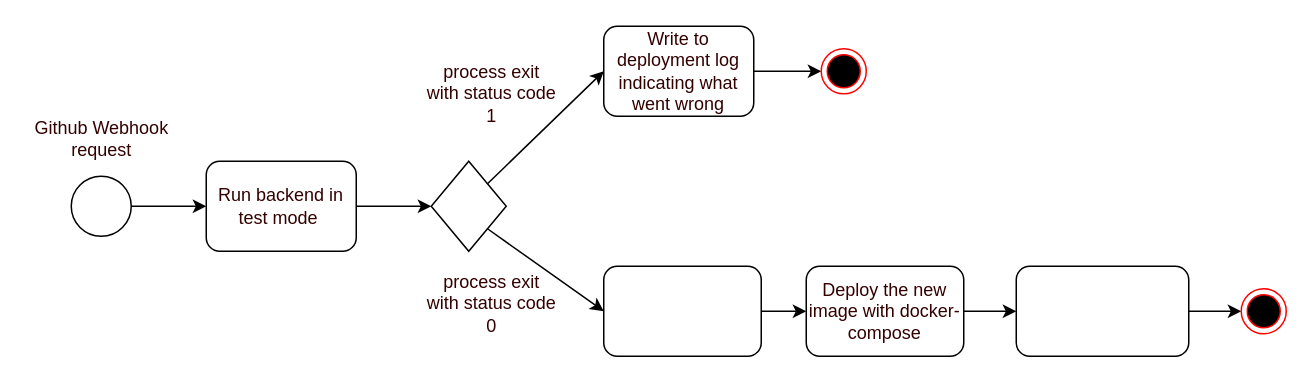
Some shapes in this 1313 by 383 pixel diagram are drawn without their labels. Here are the shapes that lost their labels. From the top down, the centre of each, then its label:
the point at 681,310: Build new rainbow tracker backend docker image
the point at 1102,310: Write to deployment log indicating a successful deployment.
